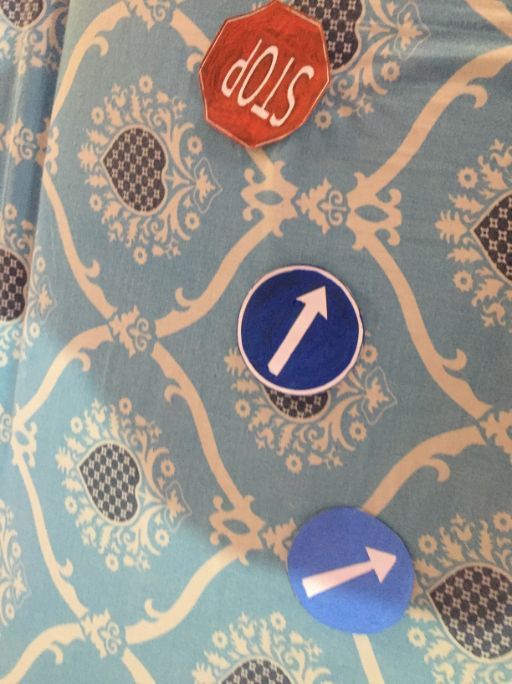go-stright: (235, 263, 366, 392)
keep-left: (289, 508, 416, 636)
stop: (197, 10, 331, 146)
